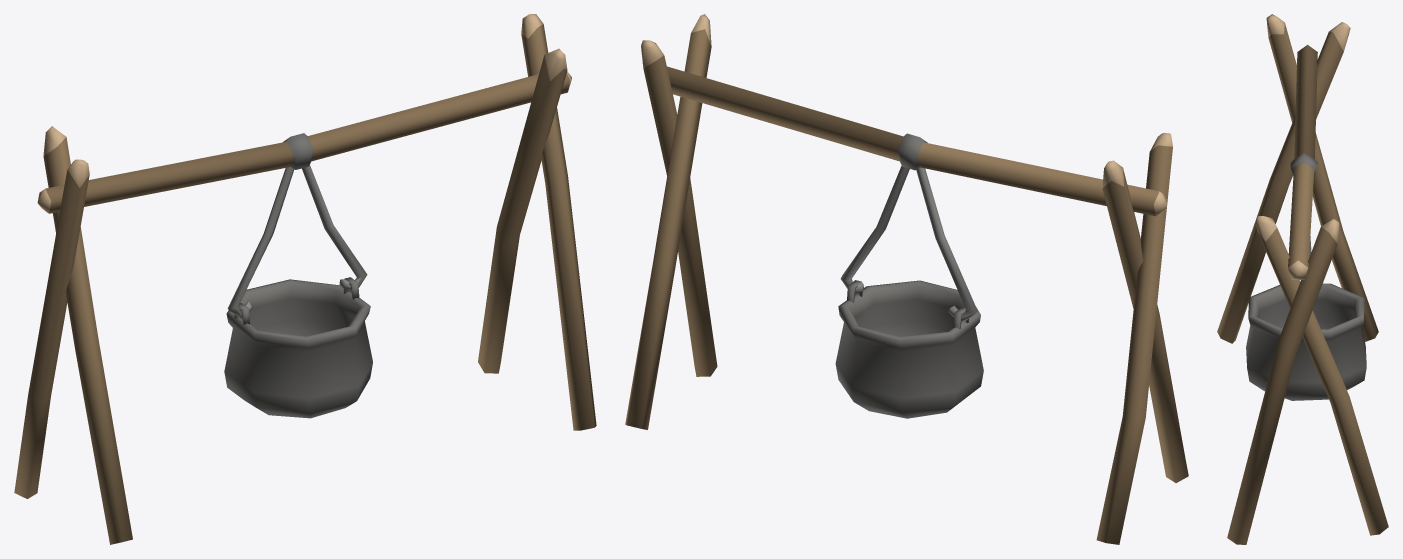
Rendered from rpgpp_ag_hanger_wood_02b.fbx.
3 renders of one model, left to right at view 1: azimuth 30°, elevation 25°; view 2: azimuth 150°, elevation 25°; view 3: azimuth 270°, elevation 25°, orthographic. The views are drawn at different scales.
Visible parts, largest first — view 1: rpgpp_ag_hanger_wood_02b; view 2: rpgpp_ag_hanger_wood_02b; view 3: rpgpp_ag_hanger_wood_02b.
Boxes of the visible parts, box(x1,y1,x2,y2) form: rpgpp_ag_hanger_wood_02b: box(14, 14, 596, 544); rpgpp_ag_hanger_wood_02b: box(625, 14, 1188, 544); rpgpp_ag_hanger_wood_02b: box(1217, 14, 1388, 544).
Size of the model in its own units: 2.23 by 1.52 by 0.7267.
